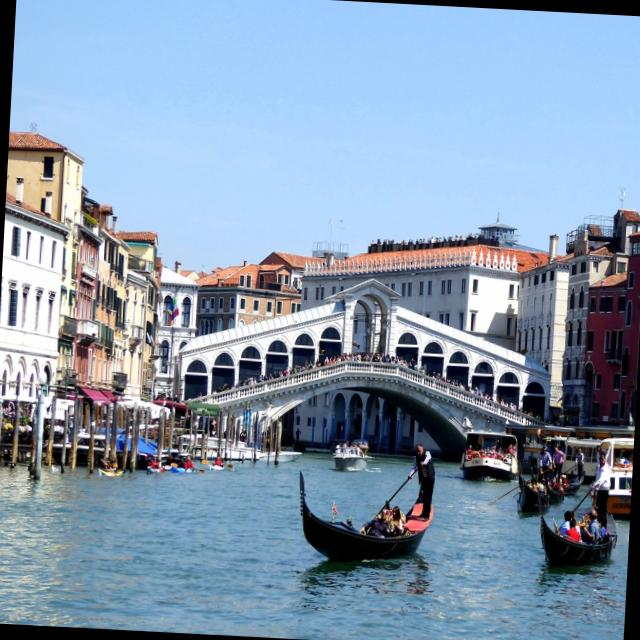boat: (288, 446, 452, 587), (522, 485, 632, 588)
